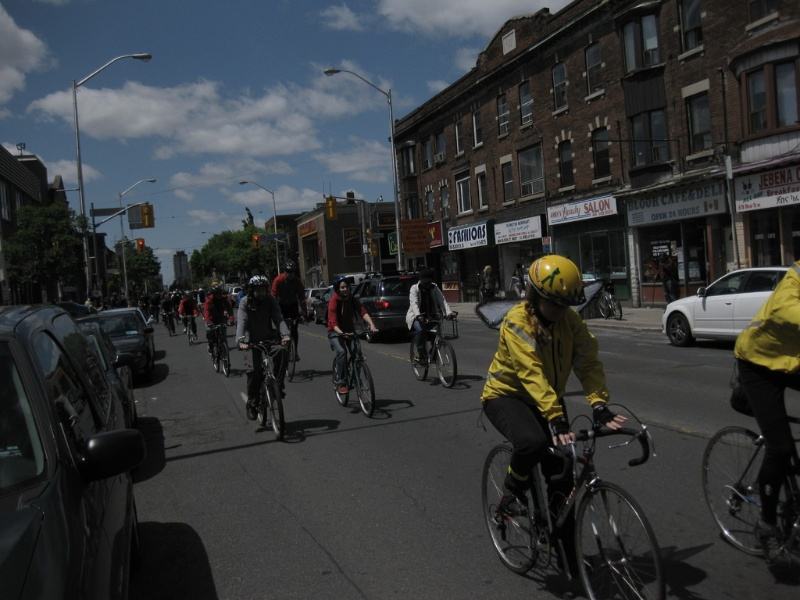helmet: (524, 258, 582, 291)
jacket: (491, 302, 571, 414)
